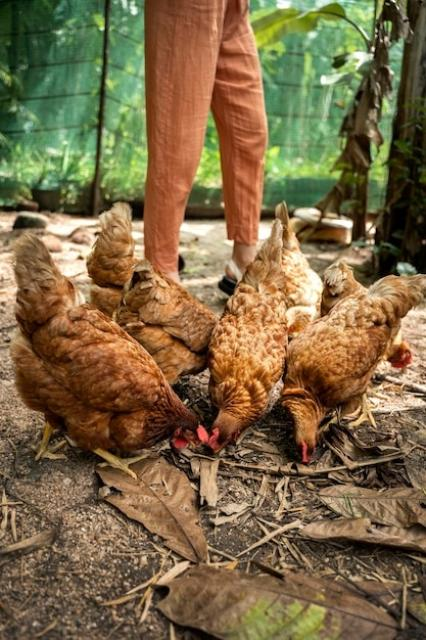Chicken: (9, 233, 209, 458), (196, 205, 325, 455), (283, 273, 426, 463), (87, 202, 220, 378), (318, 258, 415, 367)
